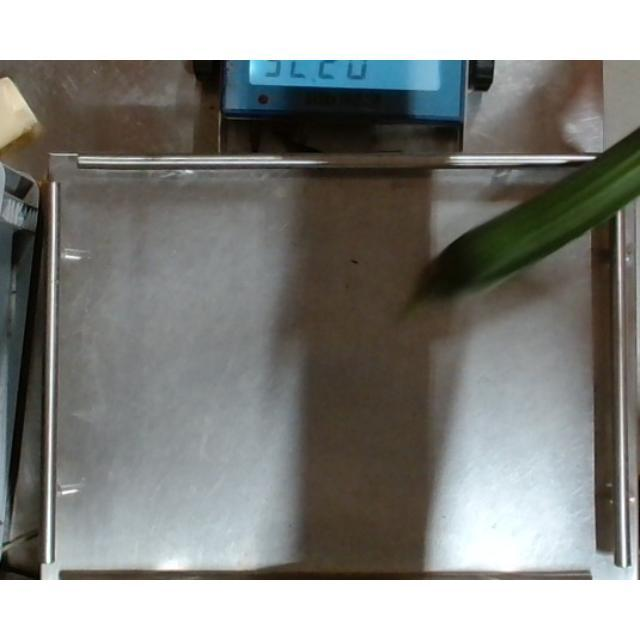cucumber: (402, 126, 640, 328)
